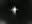person: (10, 7, 20, 16)
